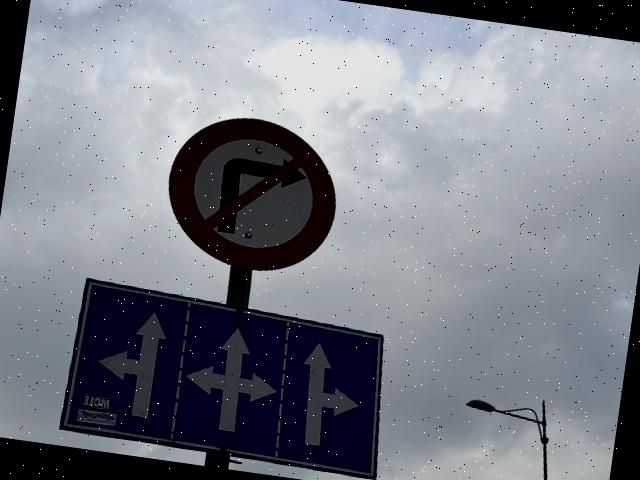cam-re-trai: (158, 106, 346, 282)
